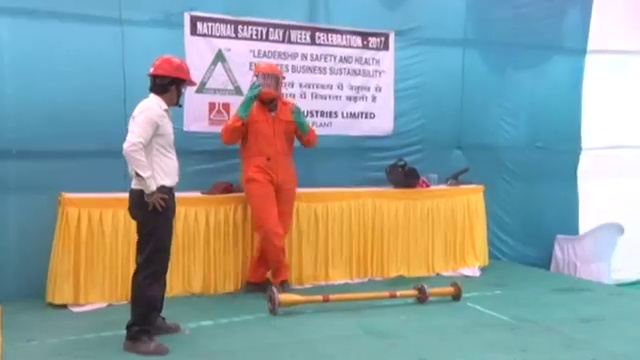helmet: (145, 54, 198, 86), (252, 58, 282, 81)
helmet_on: (143, 53, 197, 110), (249, 58, 287, 106)
person: (121, 53, 197, 353), (224, 57, 318, 296)
